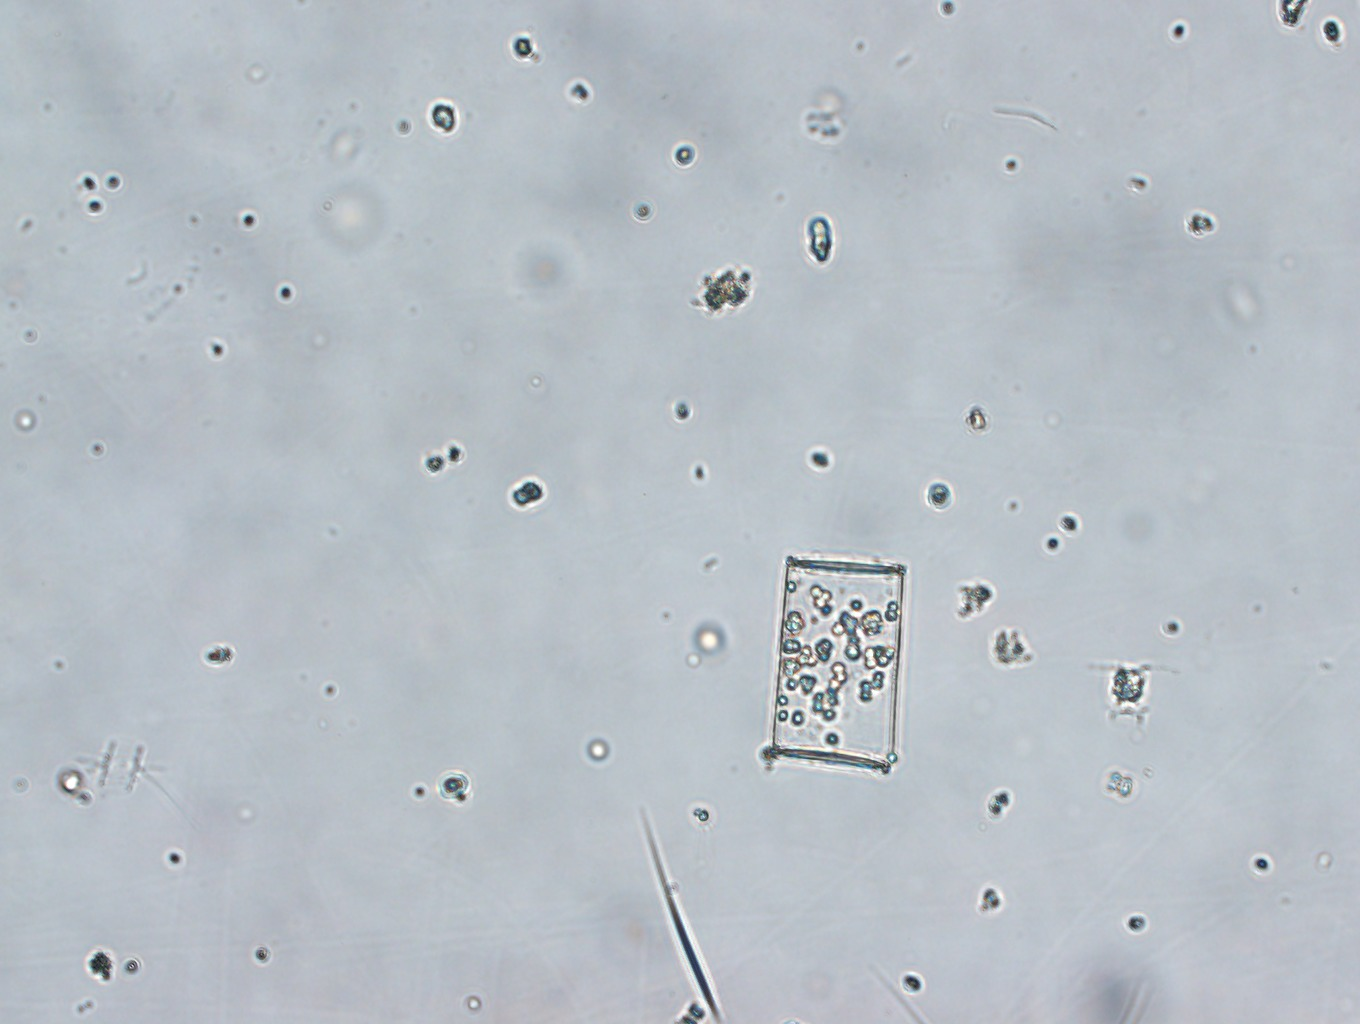guinardia flaccida: (770, 557, 907, 776)
